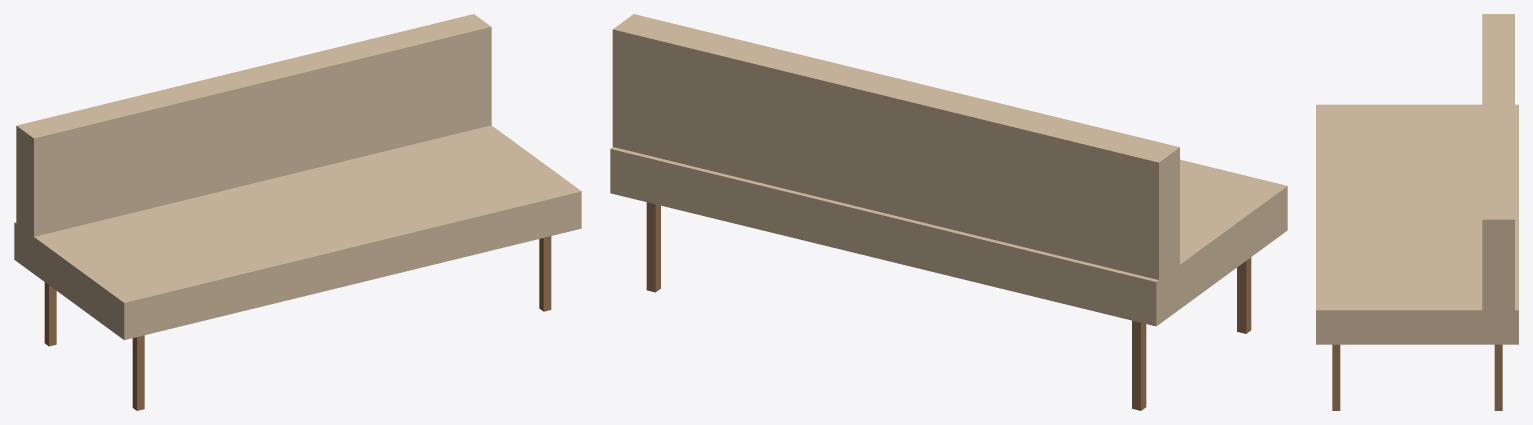
Rendered from sofa_slim.glb.
The picture shows the model from 3 angles, left to right: view 1: azimuth 30°, elevation 25°; view 2: azimuth 150°, elevation 25°; view 3: azimuth 270°, elevation 25°; orthographic projection. The views are drawn at different scales.
Parts seen in each view (by area): view 1: sofa_slim; view 2: sofa_slim; view 3: sofa_slim.
Part boxes in pixels (x1,y1,x2,y2): sofa_slim: (14,14,581,410); sofa_slim: (610,14,1287,410); sofa_slim: (1316,14,1518,410).
Bounding box in the file's own units: 1.8 × 0.82 × 0.75.
